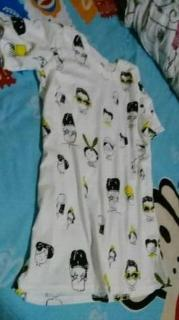short sleeve dress: (0, 17, 173, 305)
